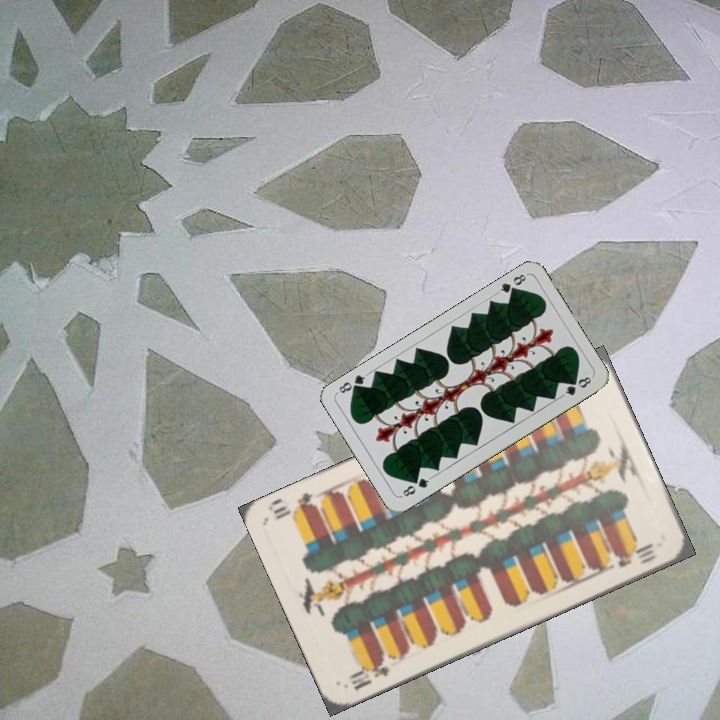E10: (345, 654, 392, 693)
G8: (493, 270, 529, 298), (397, 473, 434, 499)
